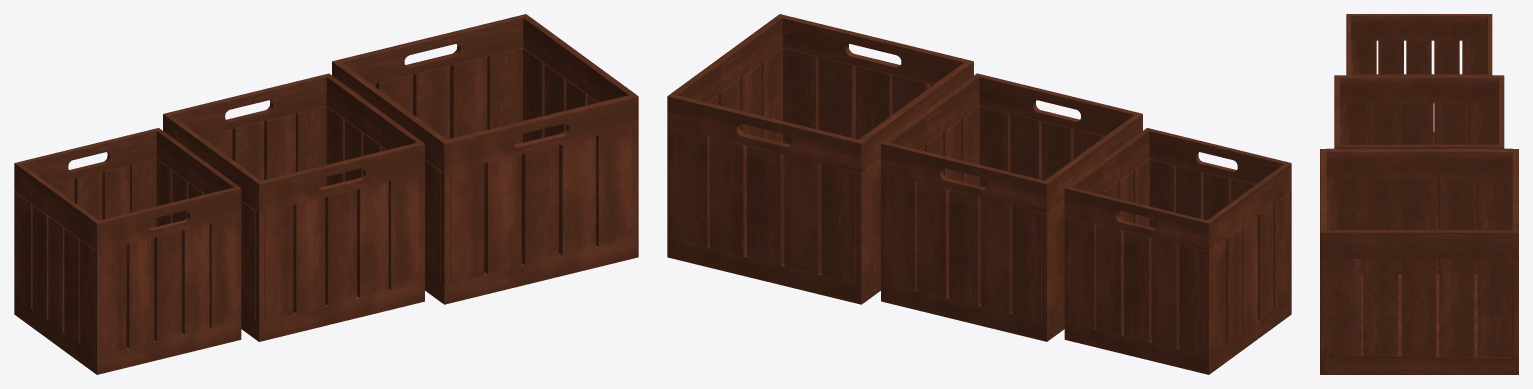
File: B07B8MSPDC.glb
3 views of the same model, side by side, from view 1: azimuth 30°, elevation 25°; view 2: azimuth 150°, elevation 25°; view 3: azimuth 270°, elevation 25° (orthographic). The views are drawn at different scales.
Visible parts, largest first — view 1: RootNode; view 2: RootNode; view 3: RootNode.
Boxes of the visible parts, bbox=[...] form: RootNode: bbox=[14, 14, 638, 374]; RootNode: bbox=[667, 14, 1291, 374]; RootNode: bbox=[1320, 14, 1518, 374].
Size of the model in its own units: 1.06 by 0.3112 by 0.3934.
1 material, 1 textured.
